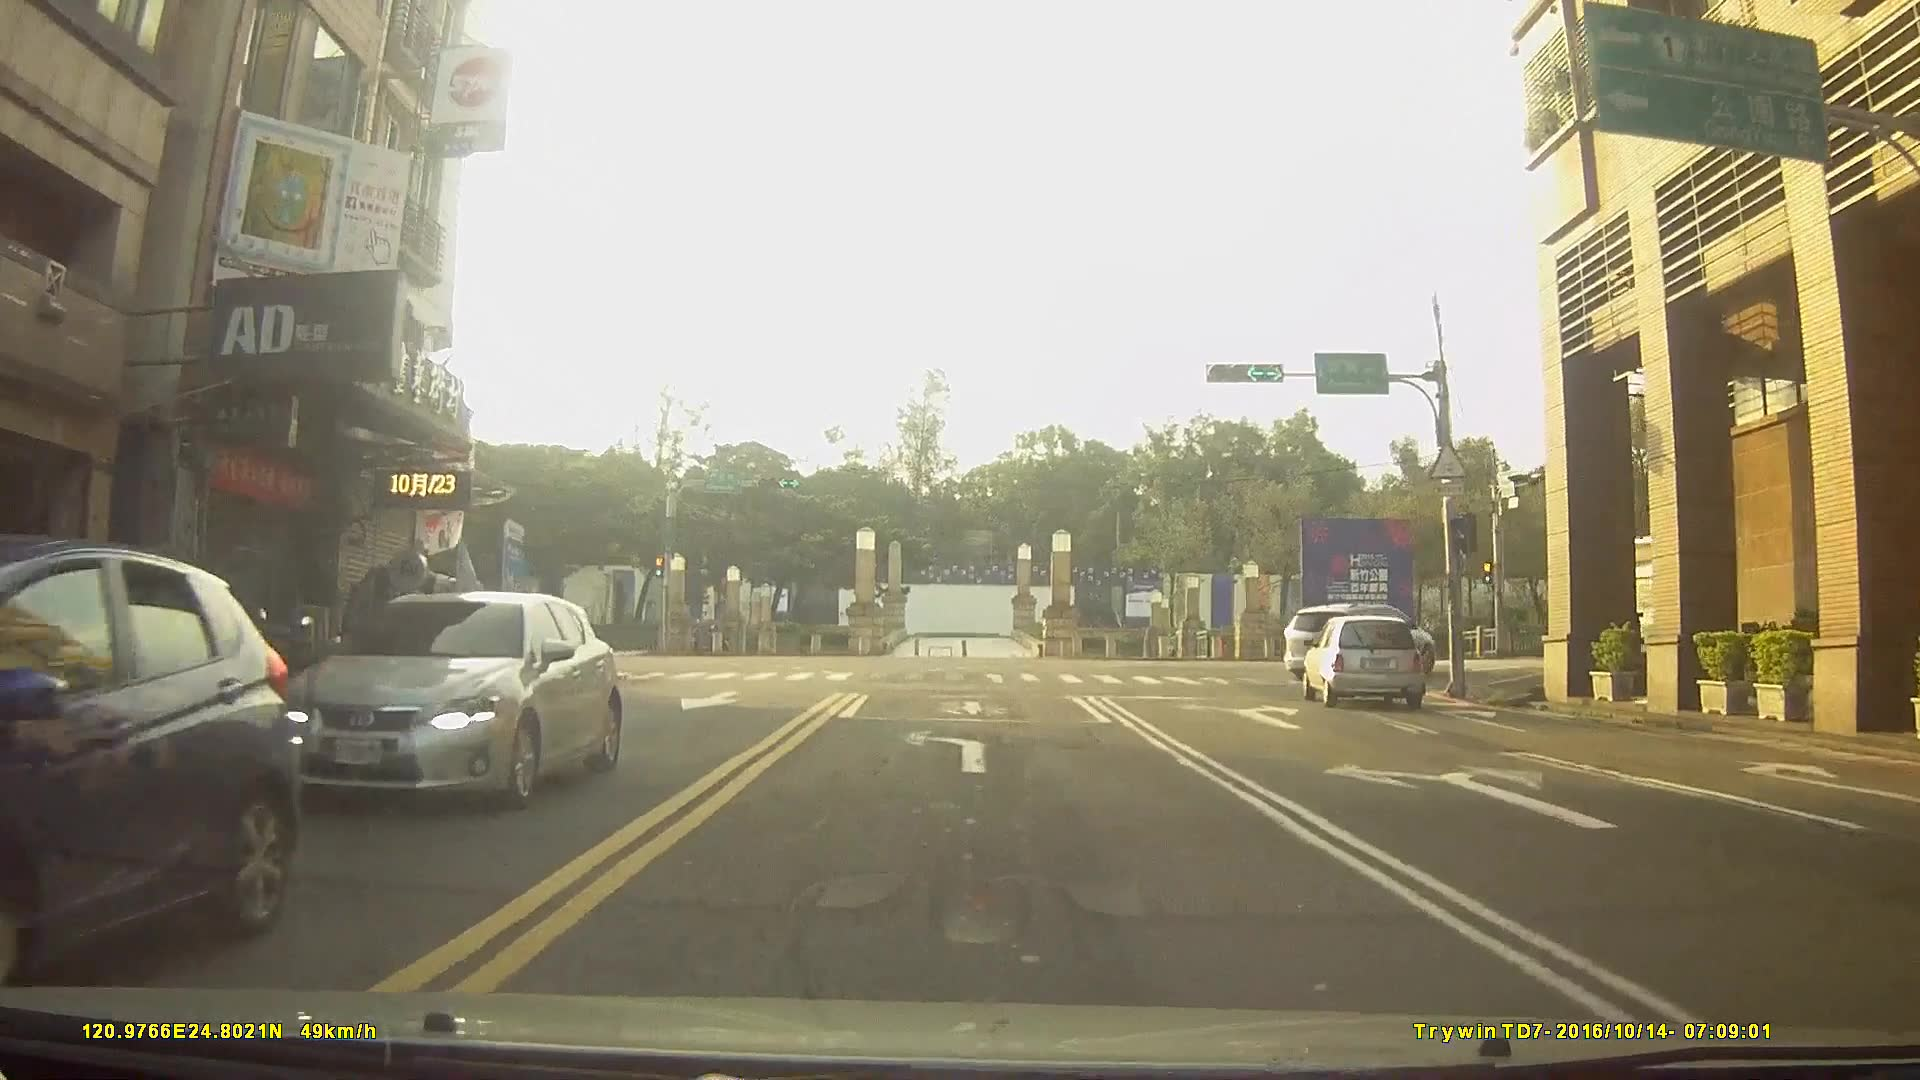vehicle: (0, 531, 295, 1004), (280, 585, 621, 808), (1283, 599, 1435, 680), (1302, 612, 1425, 705)
